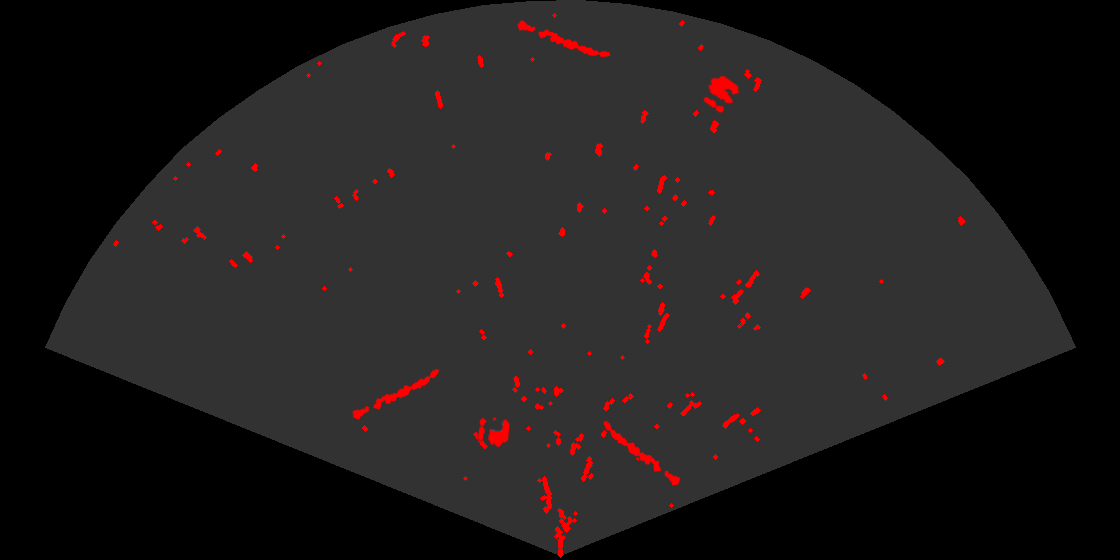ball: (702, 74, 741, 115), (477, 415, 511, 449)
chain: (602, 419, 682, 487), (351, 367, 441, 421), (515, 19, 612, 59)
